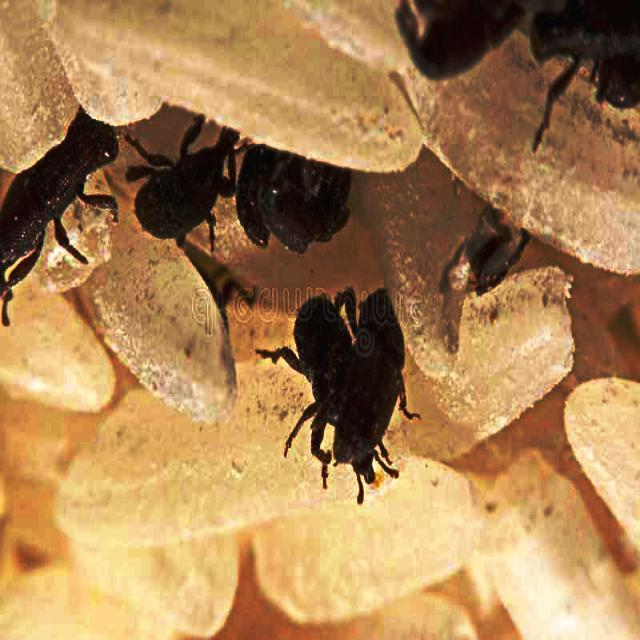rice-bug: (285, 296, 407, 488), (3, 109, 119, 299), (239, 122, 351, 252), (134, 117, 234, 241), (537, 0, 640, 104), (398, 0, 524, 76), (458, 206, 541, 293)
